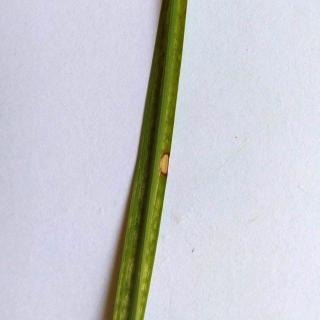Blast: (156, 121, 182, 206)
